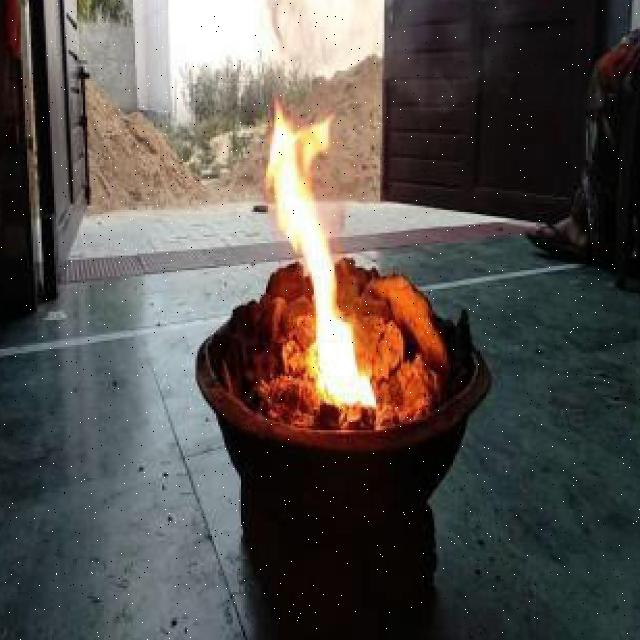fire: (260, 110, 372, 409)
smoke: (260, 0, 513, 108)
